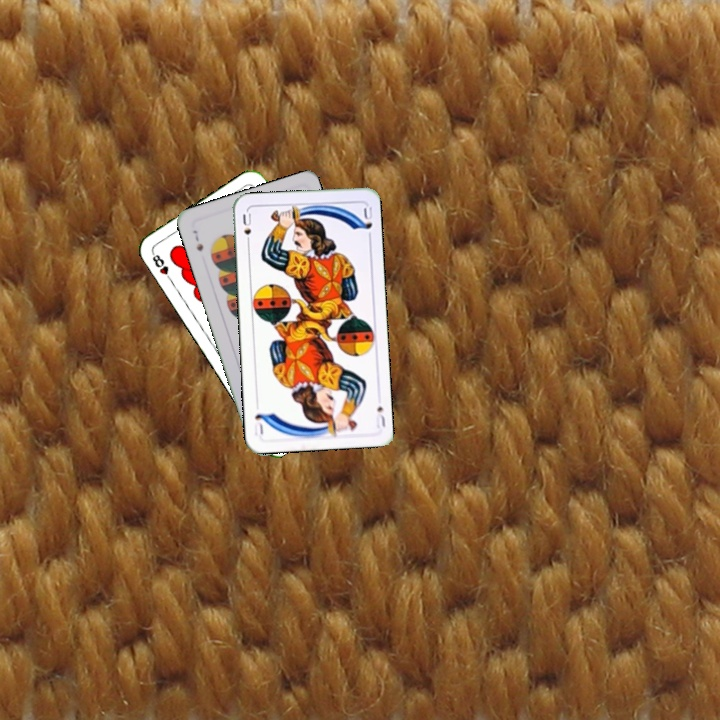H8: (147, 248, 175, 284)
S7: (189, 226, 206, 254)
SU: (239, 208, 254, 249), (372, 402, 388, 430)
